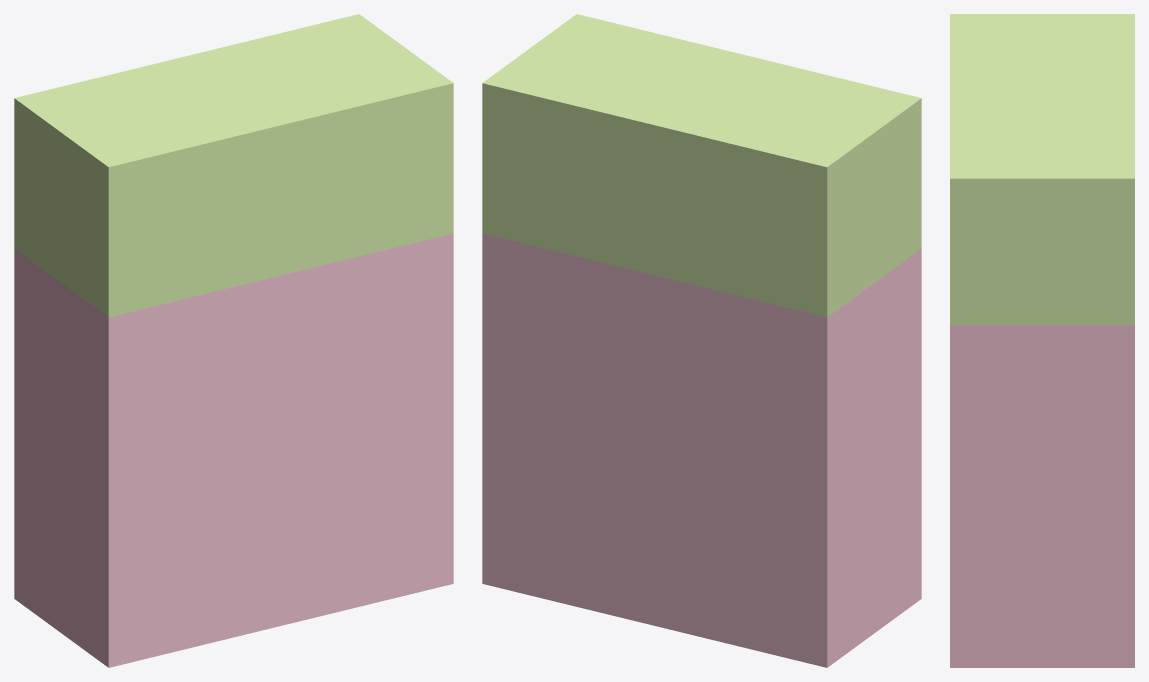
Rendered from Ürün42.fbx.
The picture shows the model from 3 angles, left to right: view 1: azimuth 30°, elevation 25°; view 2: azimuth 150°, elevation 25°; view 3: azimuth 270°, elevation 25°; orthographic projection. The views are drawn at different scales.
Visible parts, largest first — view 1: pCube82; view 2: pCube82; view 3: pCube82.
Part boxes in pixels (x1=…): pCube82: x1=14, y1=14, x2=453, y2=667; pCube82: x1=482, y1=14, x2=921, y2=667; pCube82: x1=950, y1=14, x2=1134, y2=667.
Bounding box in the file's own units: 23.51 × 32.6 × 11.16.
